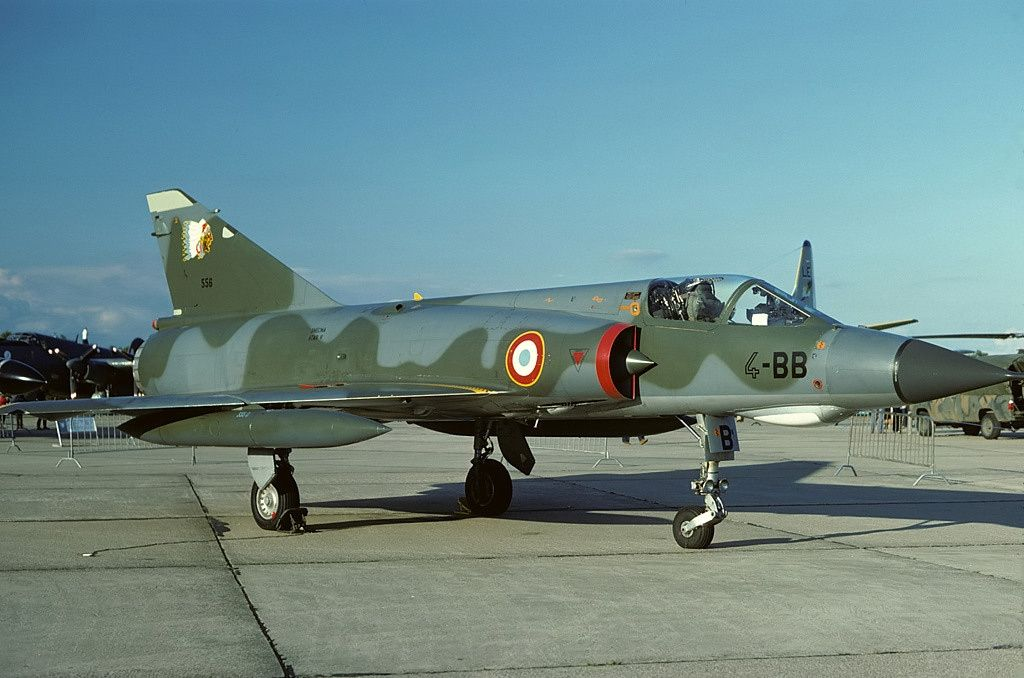Aeronef_militaire: (5, 184, 1024, 560)
